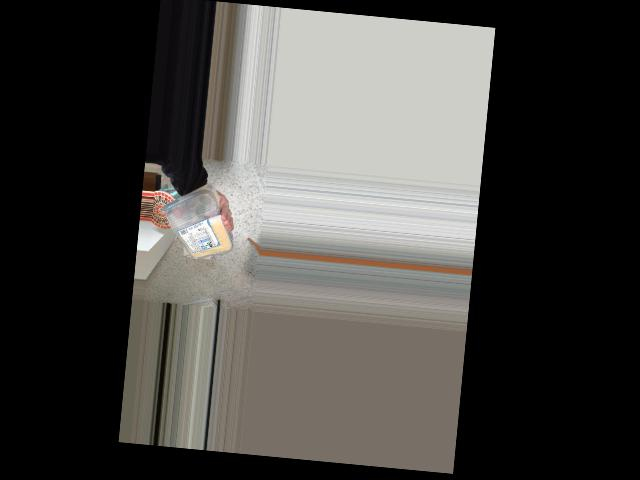cheese: (156, 188, 229, 268)
